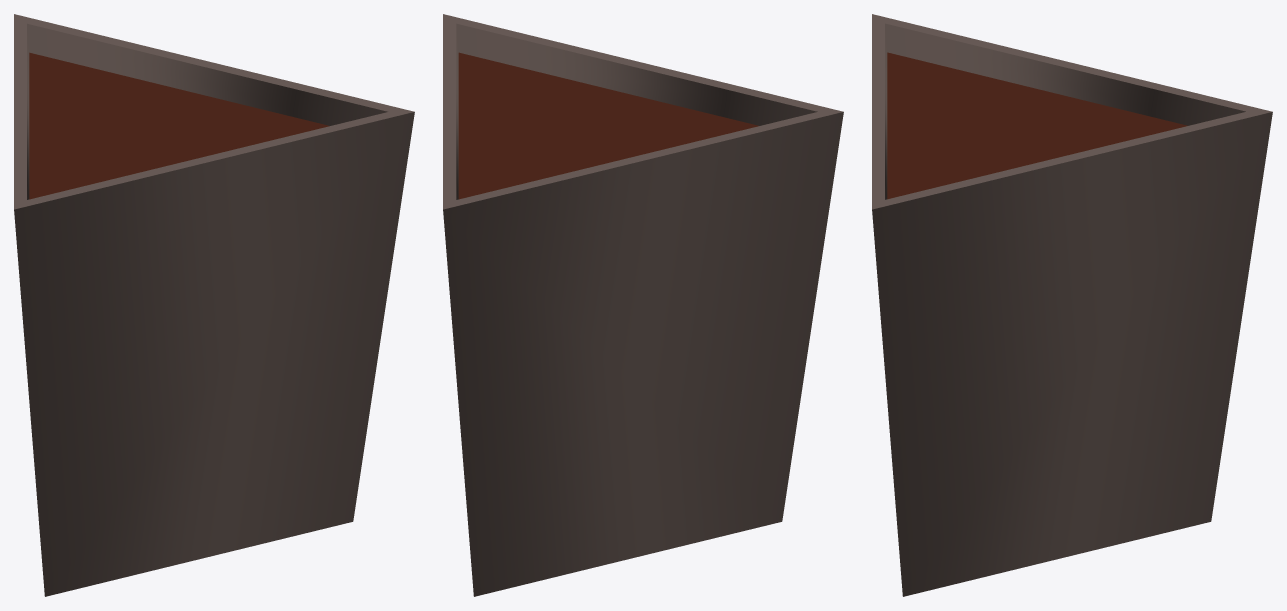
File: TrianglePot.fbx
3 renders of one model, left to right at view 1: azimuth 30°, elevation 25°; view 2: azimuth 150°, elevation 25°; view 3: azimuth 270°, elevation 25°, orthographic.
Visible parts, largest first — view 1: TrianglePot; view 2: TrianglePot; view 3: TrianglePot.
Boxes of the visible parts, x1=… form: TrianglePot: x1=14, y1=14, x2=414, y2=596; TrianglePot: x1=443, y1=14, x2=843, y2=596; TrianglePot: x1=872, y1=14, x2=1272, y2=596.
Bounding box in the file's own units: 33.77 × 29.25 × 33.
